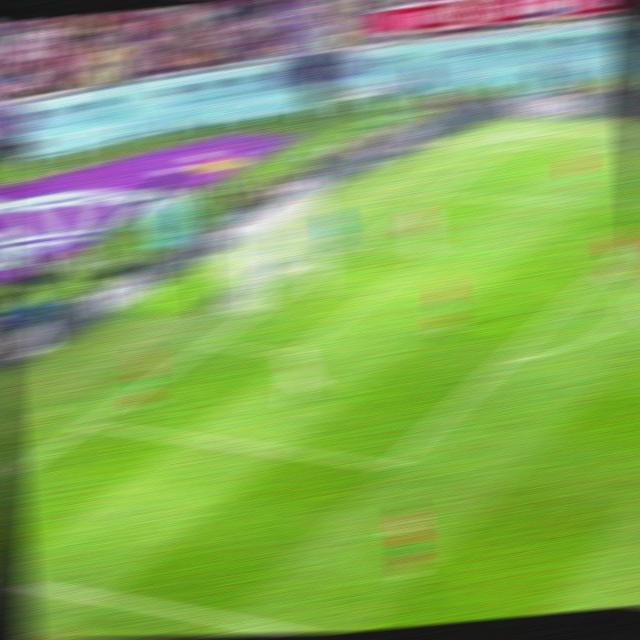bigarea_bottom_inner: (373, 452, 408, 477)
bigarea_bottom_outter: (72, 414, 104, 435)
bigarea_top_outter: (420, 186, 450, 202)
bottom_arc_area_intersection: (489, 350, 521, 371)
corner: (500, 136, 530, 150)
smallarea_bottom_inner: (278, 343, 313, 366)
smallarea_bottom_outter: (194, 334, 224, 353)
smallarea_top_inner: (421, 238, 453, 259)
smallarea_top_outter: (348, 232, 377, 252)
top_arc_area_intersection: (591, 259, 621, 279)
